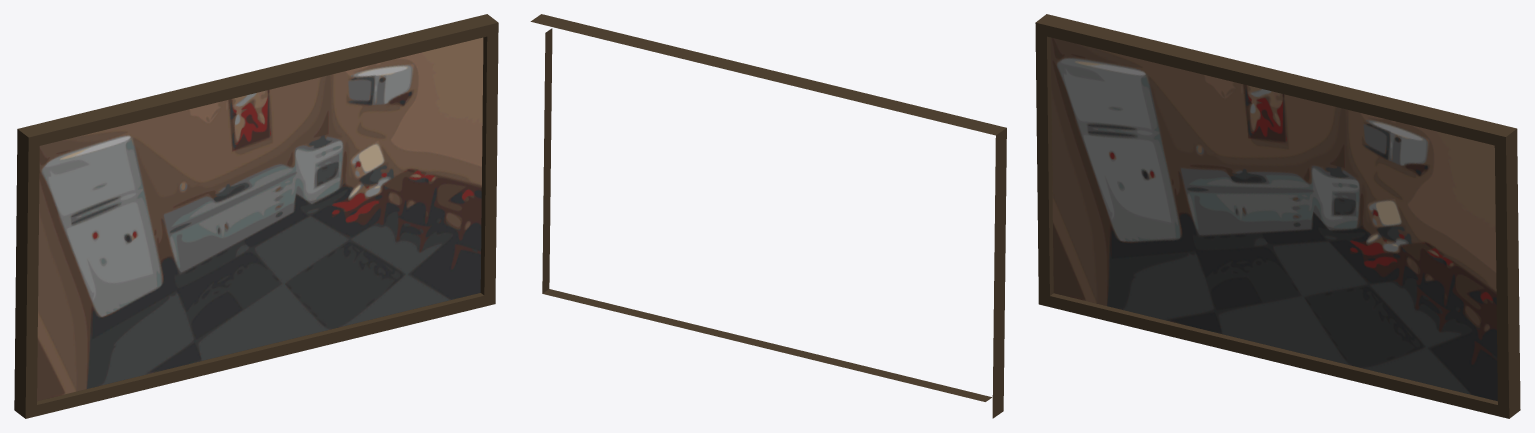
The model's file is WidePainting2.glb.
3 views of the same model, side by side, from view 1: azimuth 30°, elevation 25°; view 2: azimuth 150°, elevation 25°; view 3: azimuth 330°, elevation 25° (orthographic).
Visible parts, largest first — view 1: Cube.001, Cube; view 2: Cube; view 3: Cube.001, Cube.
Part boxes in pixels (<box>): Cube.001: <box>37,37,483,401</box>; Cube: <box>14,14,498,418</box>; Cube: <box>530,14,1006,418</box>; Cube.001: <box>1050,37,1497,401</box>; Cube: <box>1035,14,1520,418</box>.
Size of the model in its own units: 1.9 by 1.1 by 0.1011.
2 materials, 2 textured.
